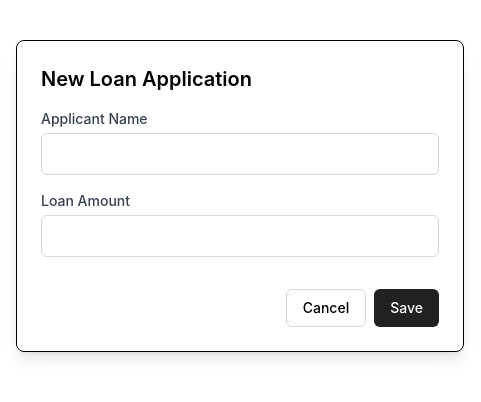
Test: LoanForm Component › validates Applicant Name when value is empty
Click the button "Save". click: [407, 308]
box: [374,289,439,327]
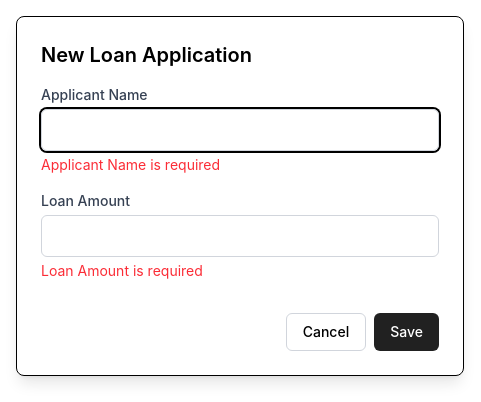
Expected: the text "Applicant Name is required" is shown, [41,156,220,173]
